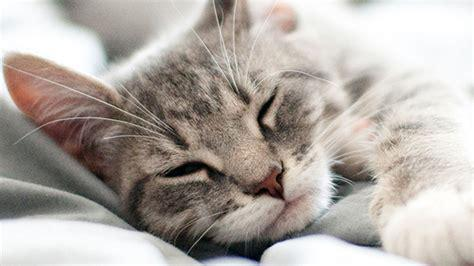cat: (4, 1, 474, 266)
